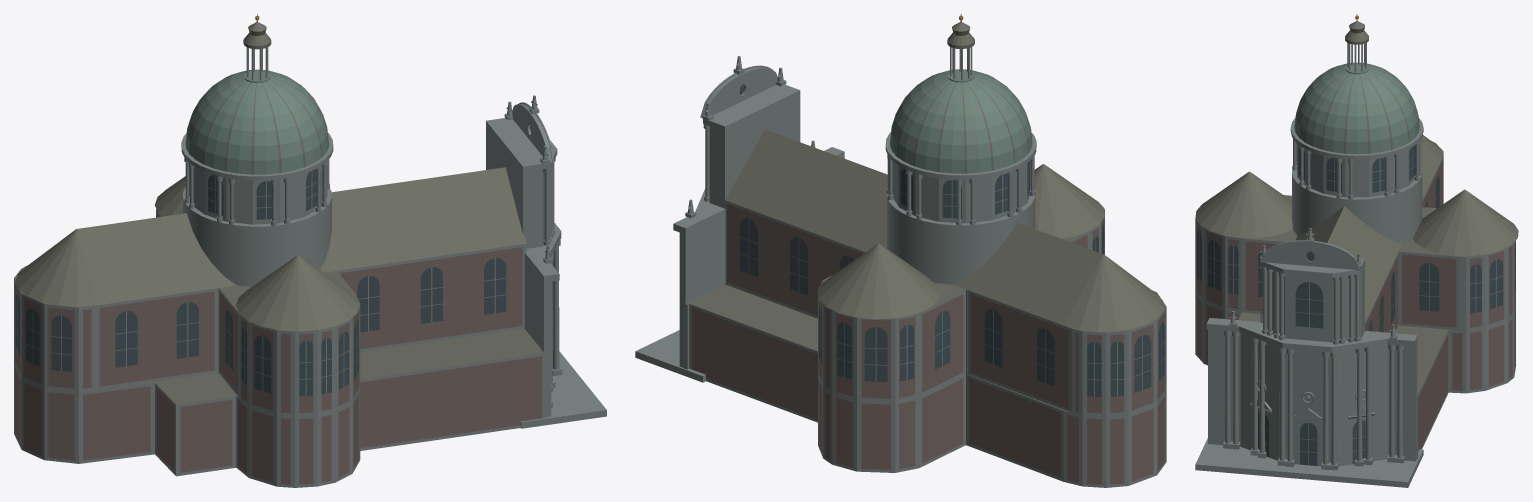
The model's file is namur-saint-aubin-far.glb.
The picture shows the model from 3 angles, left to right: view 1: azimuth 30°, elevation 25°; view 2: azimuth 150°, elevation 25°; view 3: azimuth 270°, elevation 25°; orthographic projection. The views are drawn at different scales.
Parts seen in each view (by area): view 1: namur-saint-aubin-0-brick, namur-saint-aubin-0-stone, namur-saint-aubin-0-roof, namur-saint-aubin-0-glass, namur-saint-aubin-0-copper; view 2: namur-saint-aubin-0-stone, namur-saint-aubin-0-brick, namur-saint-aubin-0-roof, namur-saint-aubin-0-glass, namur-saint-aubin-0-copper; view 3: namur-saint-aubin-0-stone, namur-saint-aubin-0-roof, namur-saint-aubin-0-brick, namur-saint-aubin-0-copper, namur-saint-aubin-0-glass.
Boxes of the visible parts, x1,y1,x2,y2 form: namur-saint-aubin-0-brick: [15, 214, 542, 484]; namur-saint-aubin-0-stone: [14, 47, 606, 487]; namur-saint-aubin-0-roof: [14, 22, 545, 404]; namur-saint-aubin-0-glass: [15, 125, 531, 396]; namur-saint-aubin-0-copper: [185, 69, 328, 174]; namur-saint-aubin-0-stone: [635, 47, 1166, 487]; namur-saint-aubin-0-brick: [692, 204, 1165, 484]; namur-saint-aubin-0-roof: [684, 22, 1166, 412]; namur-saint-aubin-0-glass: [739, 84, 1164, 396]; namur-saint-aubin-0-copper: [890, 69, 1032, 173]; namur-saint-aubin-0-stone: [1195, 43, 1515, 487]; namur-saint-aubin-0-roof: [1195, 21, 1518, 401]; namur-saint-aubin-0-brick: [1196, 160, 1515, 450]; namur-saint-aubin-0-copper: [1294, 62, 1419, 154]; namur-saint-aubin-0-glass: [1197, 145, 1515, 465].
Bounding box in the file's own units: 82.77 × 61 × 51.56.
